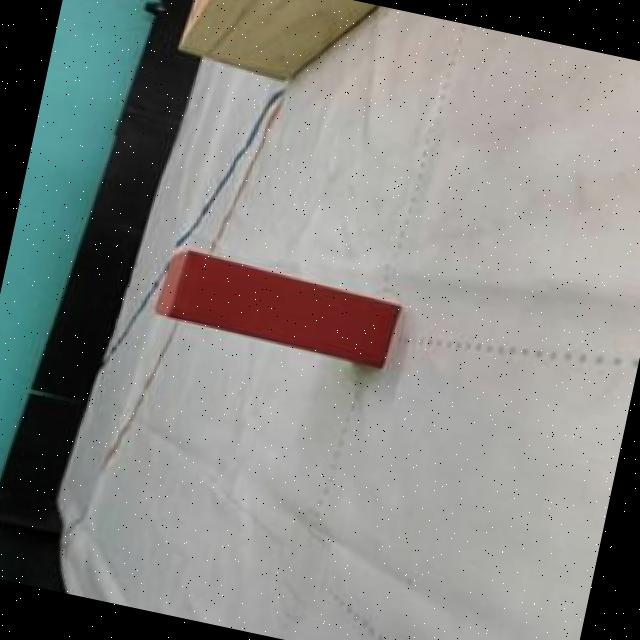redbox: (146, 245, 404, 372)
